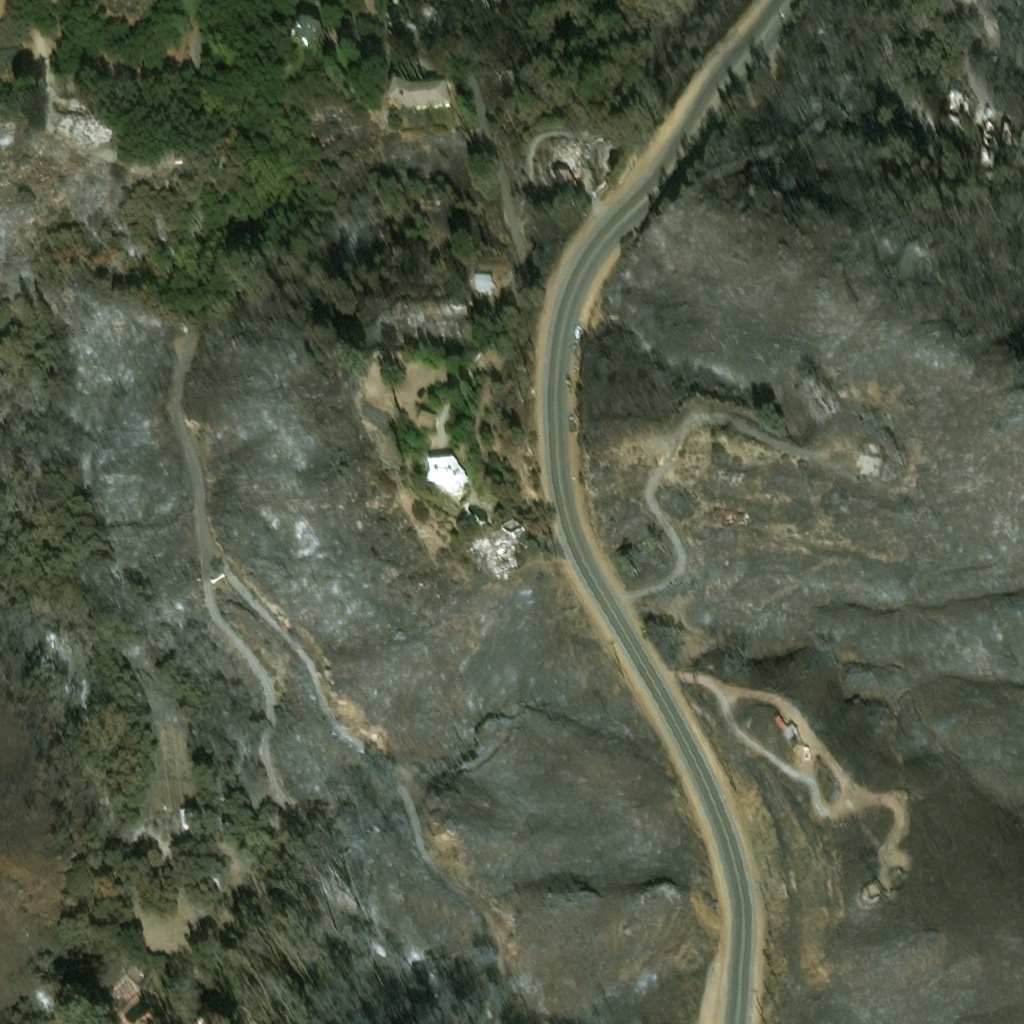0 no-damage: (390, 77, 448, 110), (426, 450, 466, 497), (290, 18, 320, 44), (773, 718, 801, 744), (380, 0, 416, 18), (414, 403, 434, 426), (393, 16, 416, 27)
3 destroyed: (972, 116, 1023, 169), (55, 108, 112, 147), (468, 528, 510, 570), (193, 993, 246, 1023), (942, 85, 971, 119), (553, 139, 581, 172), (862, 874, 884, 899), (501, 513, 524, 536), (555, 172, 579, 193), (178, 804, 200, 826), (712, 505, 743, 519), (112, 974, 130, 993), (472, 267, 490, 285), (381, 323, 405, 334), (377, 302, 389, 321), (64, 91, 79, 104), (860, 435, 875, 448), (409, 298, 418, 319), (162, 810, 172, 827), (471, 288, 483, 298)
